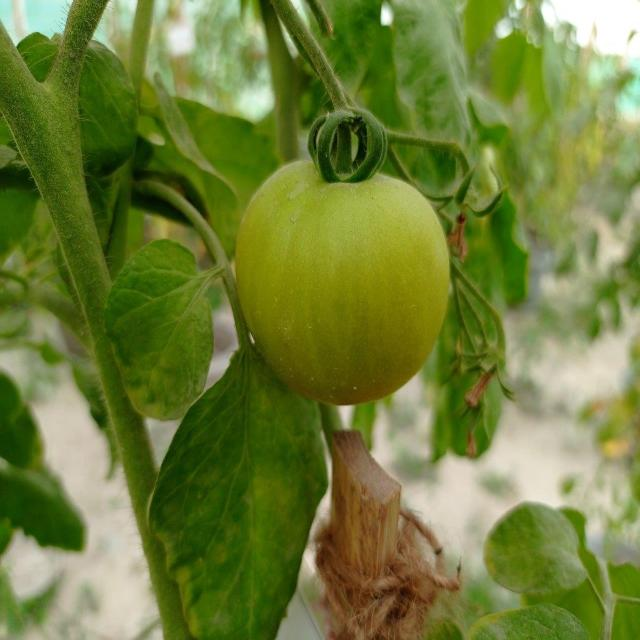Unripe: (234, 148, 448, 406)
